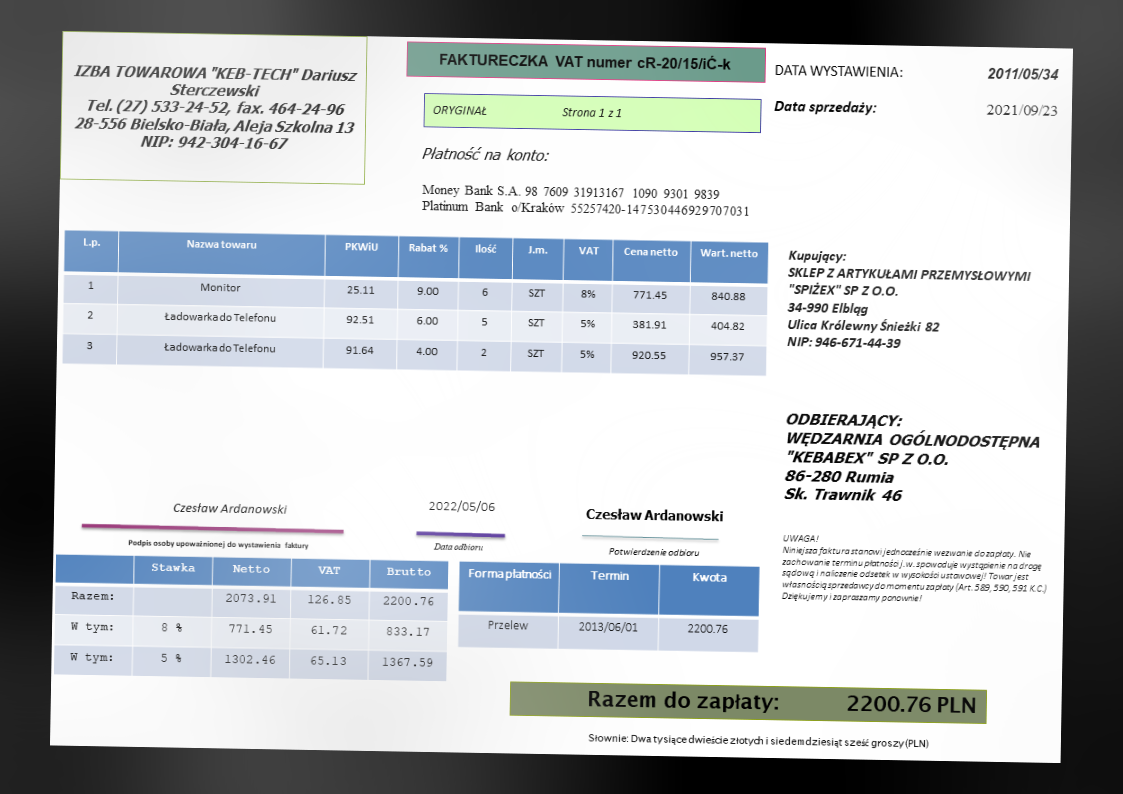Table: (60, 227, 771, 378), (52, 552, 450, 683), (456, 558, 762, 654)
TextBox: (69, 59, 359, 156), (783, 245, 1036, 355), (782, 410, 1044, 508), (779, 530, 1050, 608), (418, 179, 753, 219), (584, 686, 979, 719), (585, 730, 931, 753), (437, 48, 734, 73), (429, 99, 624, 122), (124, 535, 312, 552), (418, 142, 552, 165), (582, 504, 727, 525), (772, 60, 904, 81), (171, 497, 290, 517), (772, 96, 879, 118), (605, 544, 702, 560), (985, 63, 1062, 83), (984, 100, 1059, 119), (427, 497, 496, 516), (430, 540, 486, 553)
